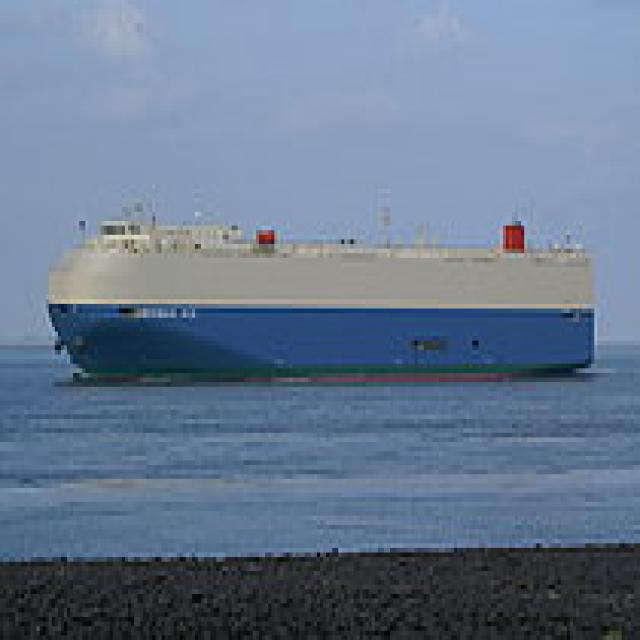Carrier: (40, 189, 597, 387)
